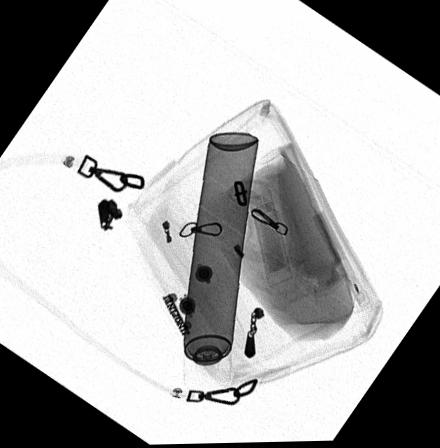Sprayer: (182, 131, 257, 401)
